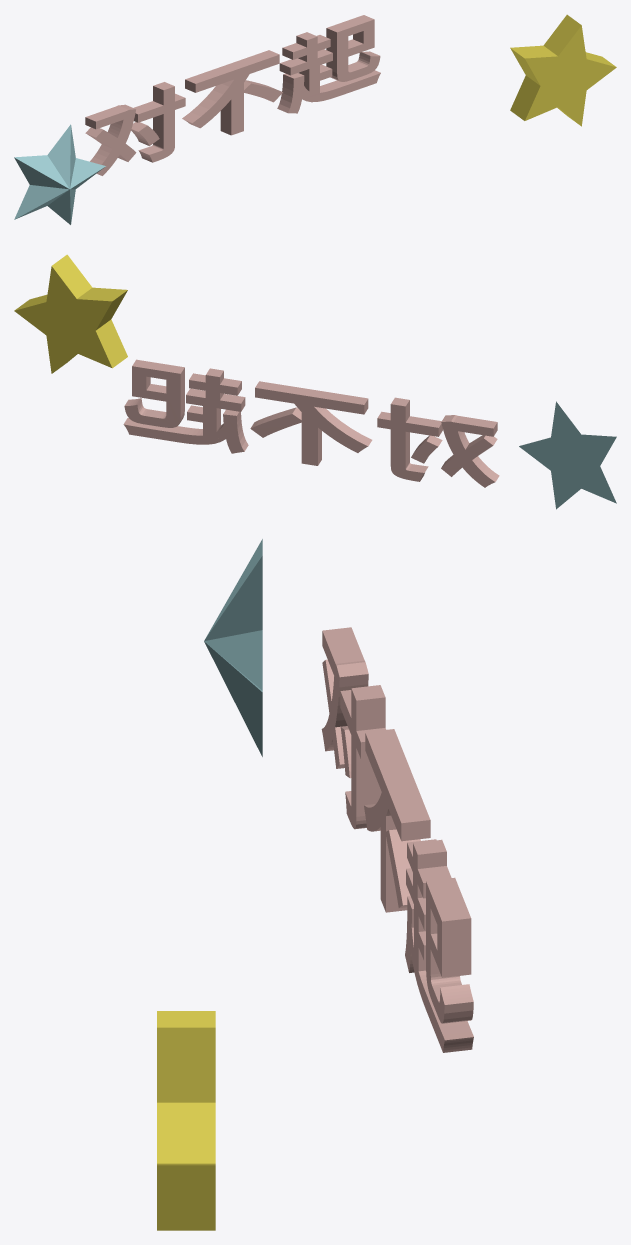
The model's file is pat.glb.
3 views of the same model, one above another, from view 1: azimuth 30°, elevation 25°; view 2: azimuth 150°, elevation 25°; view 3: azimuth 270°, elevation 25° (orthographic). The views are drawn at different scales.
Parts seen in each view (by area): view 1: Mesh_Mesh_head_geo.001_lambert2SG.001; view 2: Mesh_Mesh_head_geo.001_lambert2SG.001; view 3: Mesh_Mesh_head_geo.001_lambert2SG.001.
Part boxes in pixels (bbox=[...]): Mesh_Mesh_head_geo.001_lambert2SG.001: bbox=[14, 14, 616, 224]; Mesh_Mesh_head_geo.001_lambert2SG.001: bbox=[14, 254, 616, 509]; Mesh_Mesh_head_geo.001_lambert2SG.001: bbox=[157, 539, 473, 1230].
Size of the model in its own units: 226 by 38.04 by 53.9.
